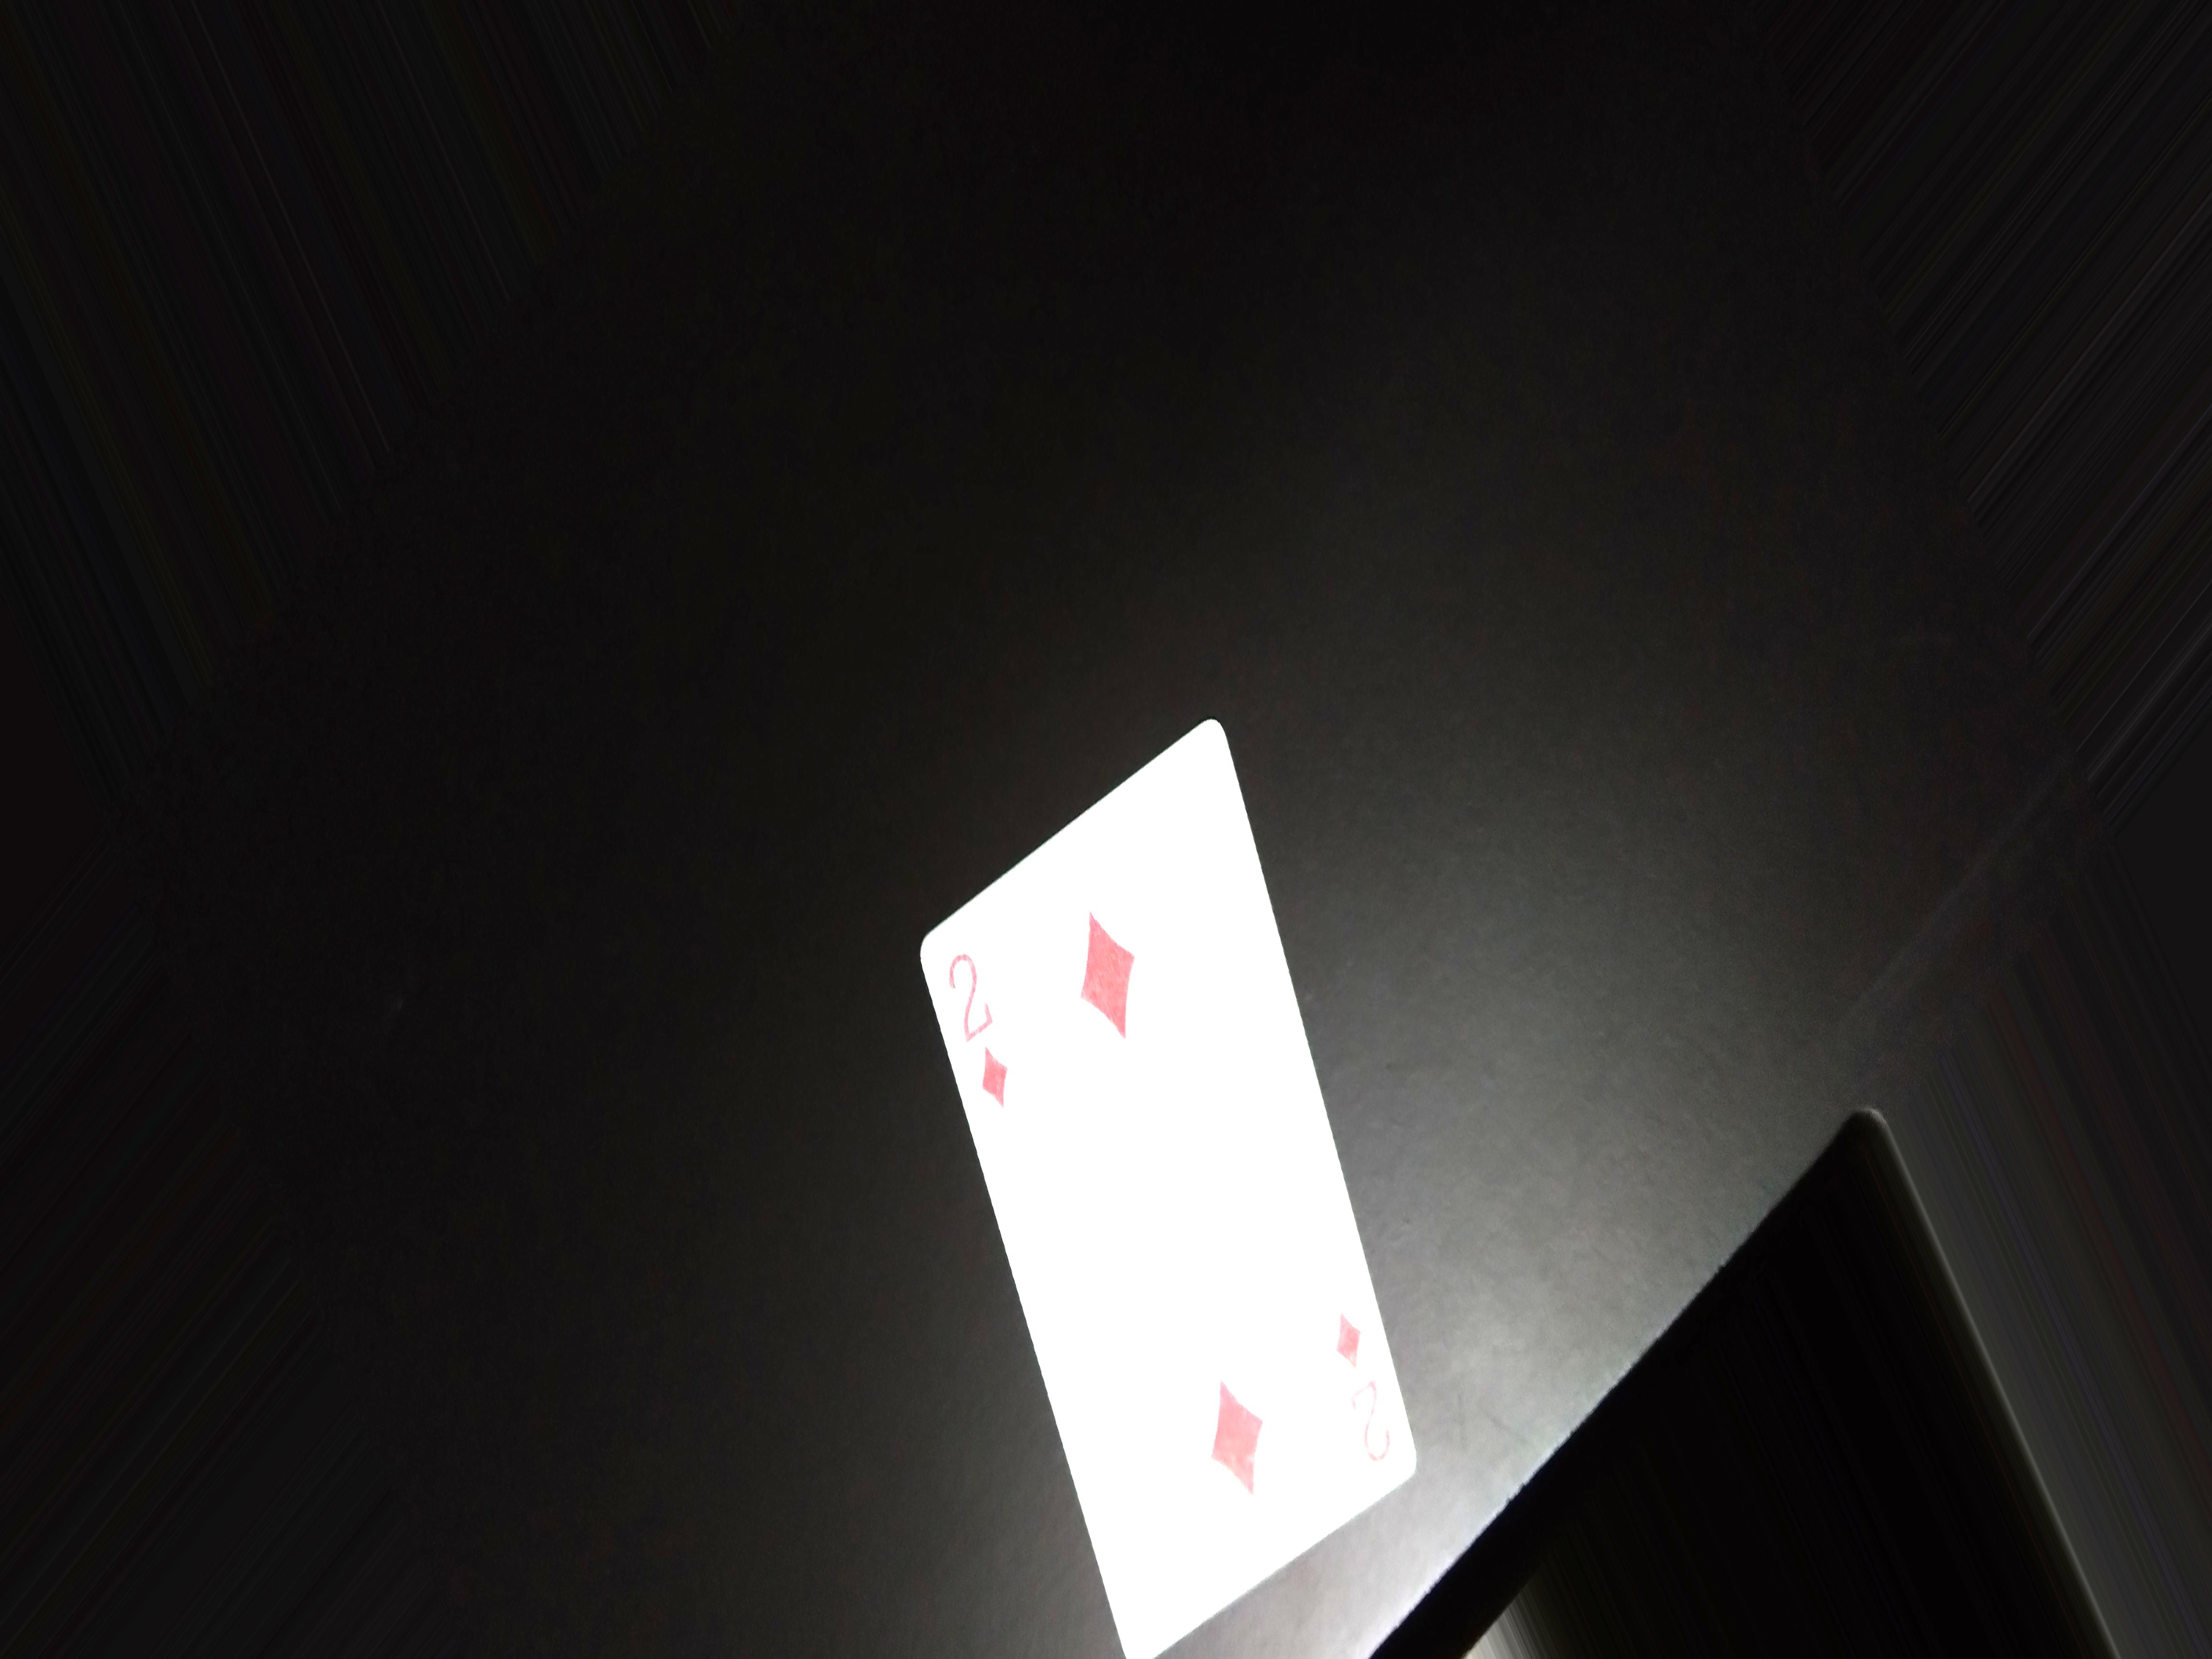2D: (935, 945, 1028, 1114)
